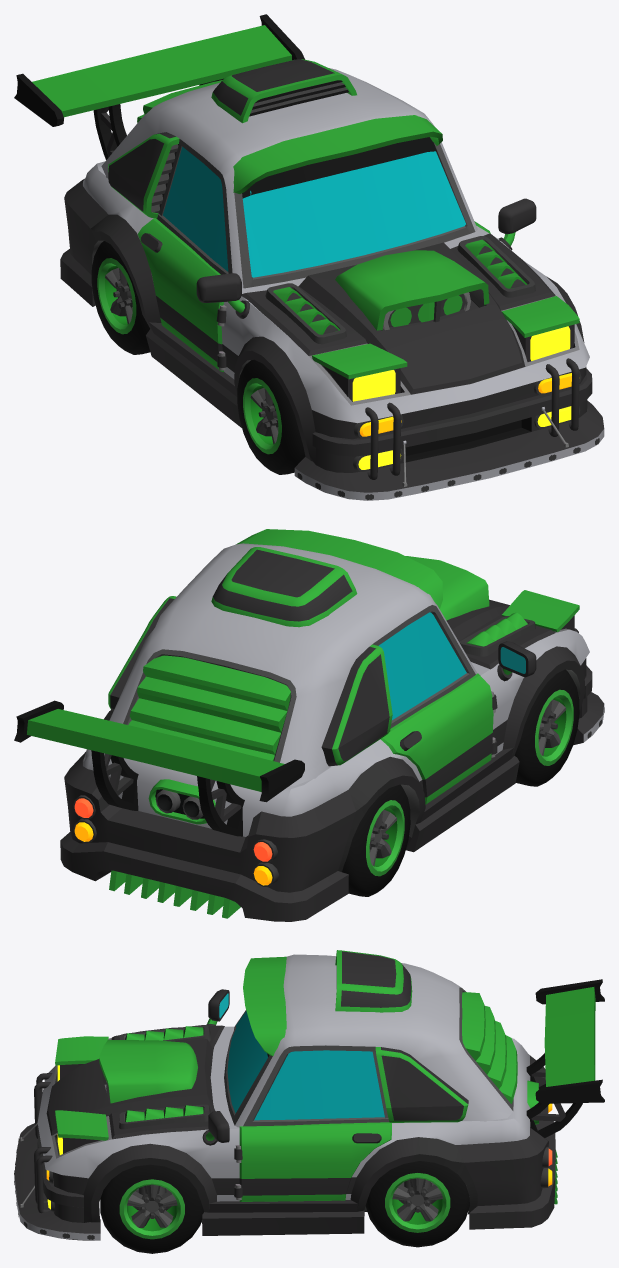
The model's file is SVehicle003.fbx.
The picture shows the model from 3 angles, top to bottom: view 1: azimuth 30°, elevation 25°; view 2: azimuth 150°, elevation 25°; view 3: azimuth 270°, elevation 25°; orthographic projection. The views are drawn at different scales.
Parts seen in each view (by area): view 1: SVehicle003, SV003_FR, SV003_BR; view 2: SVehicle003, SV003_FR, SV003_BR; view 3: SVehicle003, SV003_FL, SV003_BL.
Boxes of the visible parts, x1=… form: SVehicle003: x1=14, y1=14, x2=604, y2=500; SV003_FR: x1=237, y1=359, x2=305, y2=474; SV003_BR: x1=91, y1=241, x2=150, y2=354; SVehicle003: x1=14, y1=529, x2=604, y2=921; SV003_FR: x1=514, y1=669, x2=579, y2=786; SV003_BR: x1=342, y1=784, x2=410, y2=896; SVehicle003: x1=14, y1=950, x2=604, y2=1240; SV003_FL: x1=100, y1=1164, x2=203, y2=1253; SV003_BL: x1=365, y1=1161, x2=469, y2=1247.
Bounding box in the file's own units: 270 × 210 × 487.
1 material, 1 textured.
